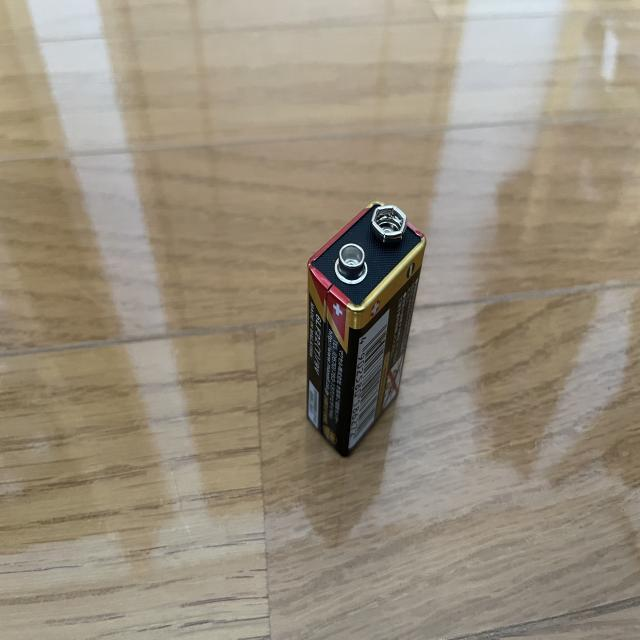9V: (305, 198, 427, 459)
